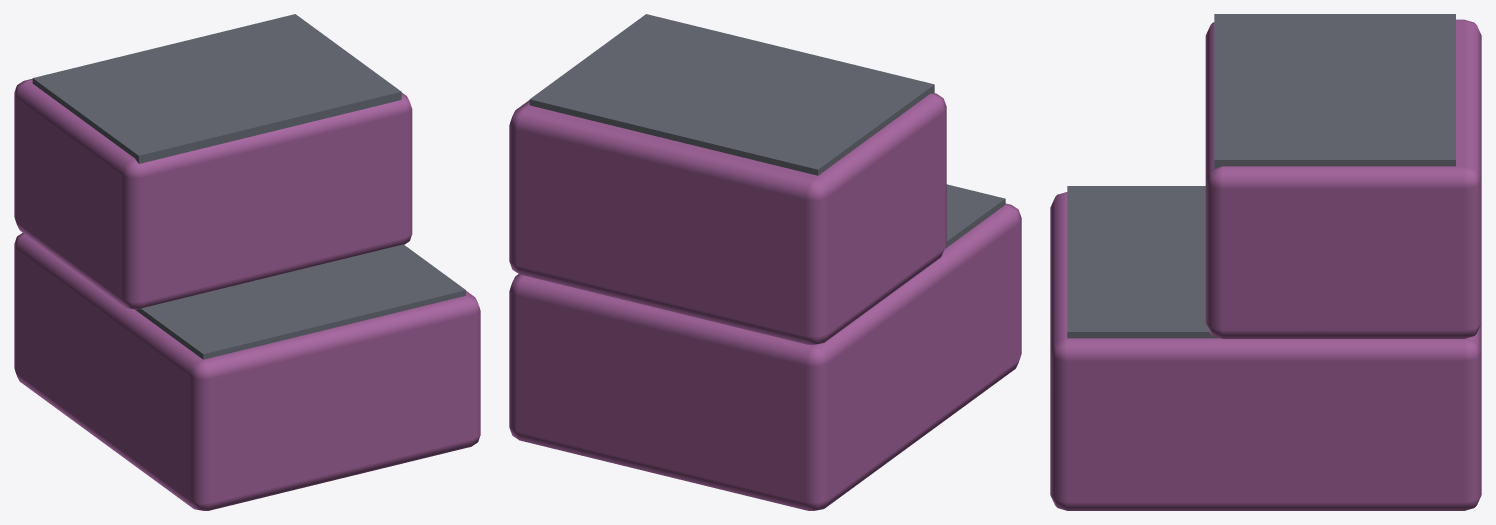
Rendered from pharmacy-and-high-street-chemist-step-stool-9bf44ee3__37515.glb.
3 views of the same model, side by side, from view 1: azimuth 30°, elevation 25°; view 2: azimuth 150°, elevation 25°; view 3: azimuth 270°, elevation 25° (orthographic). The views are drawn at different scales.
Visible parts, largest first — view 1: step-stool; view 2: step-stool; view 3: step-stool.
Boxes of the visible parts, bbox=[...] form: step-stool: bbox=[14, 14, 480, 510]; step-stool: bbox=[509, 14, 1021, 510]; step-stool: bbox=[1050, 14, 1481, 510].
Bounding box in the file's own units: 0.44 × 0.448 × 0.5.
